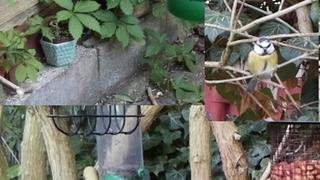blue tit: (244, 38, 279, 92)
